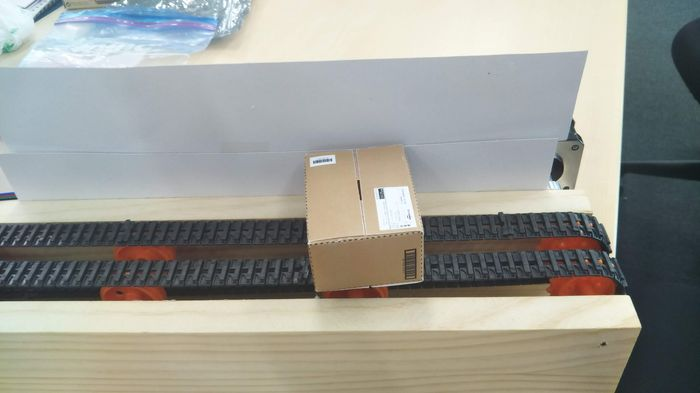box1: (302, 142, 427, 294)
